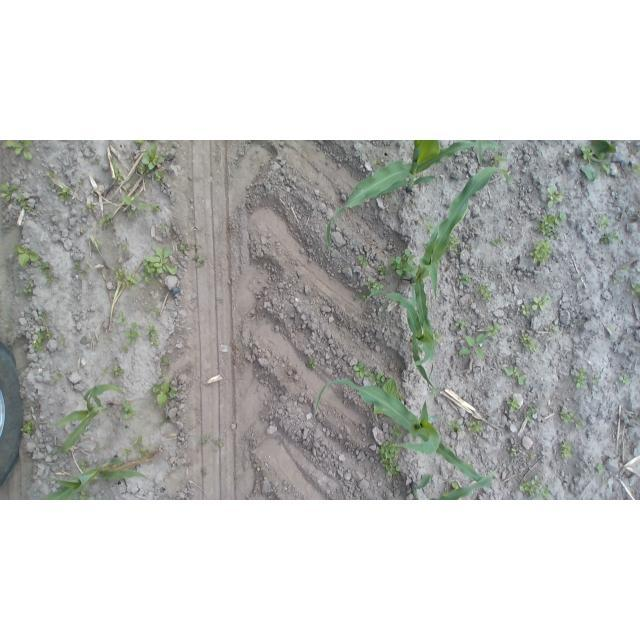Maize: (326, 141, 505, 260), (411, 168, 512, 371), (315, 378, 493, 490), (363, 291, 437, 394), (44, 384, 125, 457), (41, 456, 148, 501), (411, 468, 498, 501)
Weeds: (581, 140, 616, 181), (140, 247, 177, 283), (378, 439, 402, 477), (389, 249, 418, 278), (520, 476, 553, 501), (535, 212, 567, 237), (140, 142, 165, 174), (459, 334, 486, 359), (121, 194, 148, 219), (152, 380, 176, 406), (384, 377, 407, 403), (13, 245, 39, 267), (529, 239, 551, 265), (4, 140, 32, 160), (32, 329, 52, 352), (504, 367, 526, 386), (547, 185, 566, 207), (38, 260, 54, 286), (125, 323, 142, 346), (120, 396, 136, 420), (369, 370, 388, 390), (1, 183, 20, 201), (521, 333, 539, 352), (16, 193, 33, 211), (475, 283, 491, 302), (353, 361, 371, 377), (532, 295, 550, 311), (560, 408, 579, 423), (573, 369, 588, 388), (365, 278, 384, 292), (20, 419, 36, 435), (468, 421, 485, 436), (489, 153, 507, 167), (524, 403, 537, 422), (57, 186, 72, 202), (112, 161, 124, 181), (601, 232, 619, 245), (446, 237, 460, 252), (99, 215, 113, 230), (125, 275, 139, 290), (486, 324, 501, 337), (448, 420, 463, 433), (391, 426, 406, 439), (561, 442, 572, 459), (507, 397, 520, 411), (597, 216, 611, 229), (516, 305, 532, 316), (424, 220, 436, 234), (155, 170, 167, 184), (455, 319, 470, 330), (117, 311, 128, 326), (114, 268, 126, 281), (78, 460, 90, 473), (78, 487, 90, 500), (146, 324, 158, 336), (111, 364, 123, 376), (378, 265, 391, 276), (458, 274, 471, 285), (118, 241, 131, 252), (137, 446, 148, 459), (92, 237, 102, 251), (358, 254, 369, 266), (192, 256, 204, 267), (359, 291, 370, 302), (23, 284, 34, 295), (177, 242, 188, 253), (631, 283, 640, 296), (372, 157, 383, 167), (596, 462, 605, 474), (84, 203, 94, 213), (122, 447, 132, 457), (133, 435, 143, 445), (451, 480, 461, 490), (620, 375, 630, 385), (433, 333, 442, 344), (306, 360, 317, 369), (73, 260, 81, 272), (490, 238, 502, 246), (38, 313, 48, 322), (149, 204, 159, 213), (576, 420, 585, 429), (162, 357, 171, 366), (150, 337, 160, 345), (159, 415, 169, 423), (53, 372, 62, 380), (508, 448, 516, 457), (158, 370, 166, 379), (45, 170, 53, 178), (429, 387, 437, 395), (549, 323, 557, 331), (593, 376, 601, 384), (120, 345, 129, 352), (633, 166, 640, 175), (59, 336, 66, 344), (216, 441, 225, 447), (153, 310, 159, 319), (133, 140, 143, 145), (160, 223, 167, 230), (531, 452, 538, 459), (423, 240, 429, 248), (145, 307, 154, 312), (622, 266, 629, 272), (87, 222, 93, 228), (81, 272, 87, 278), (5, 325, 11, 330), (48, 180, 54, 185), (614, 277, 619, 283), (353, 296, 358, 301), (111, 267, 117, 271), (102, 367, 108, 371), (500, 177, 506, 181), (383, 304, 387, 310), (93, 158, 98, 162), (85, 158, 90, 162), (468, 248, 472, 253), (384, 194, 388, 197)
